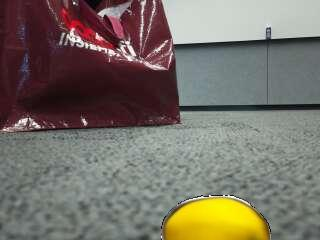lemon: (166, 197, 271, 238)
